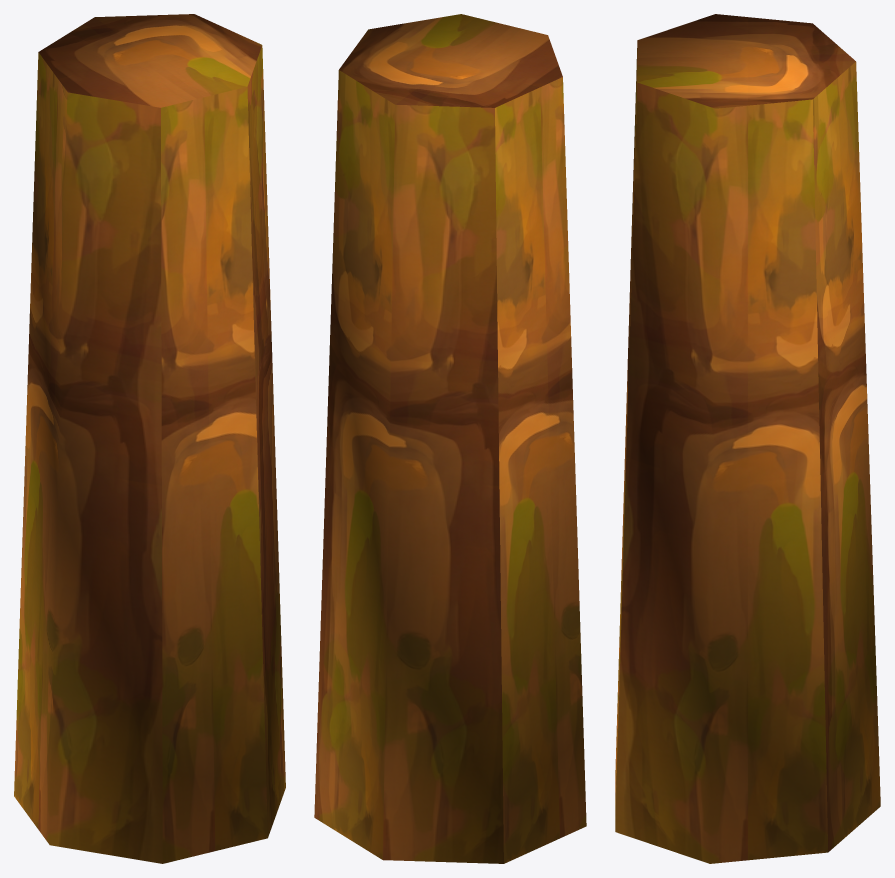
Rendered from strut.glb.
The picture shows the model from 3 angles, left to right: view 1: azimuth 30°, elevation 25°; view 2: azimuth 150°, elevation 25°; view 3: azimuth 270°, elevation 25°; orthographic projection.
Visible parts, largest first — view 1: strut; view 2: strut; view 3: strut.
Part boxes in pixels (x1,y1,x2,y2): strut: (14, 14, 285, 863); strut: (314, 14, 586, 863); strut: (615, 14, 880, 863).
Size of the model in its own units: 0.3315 by 1 by 0.3232.
1 material, 1 textured.
